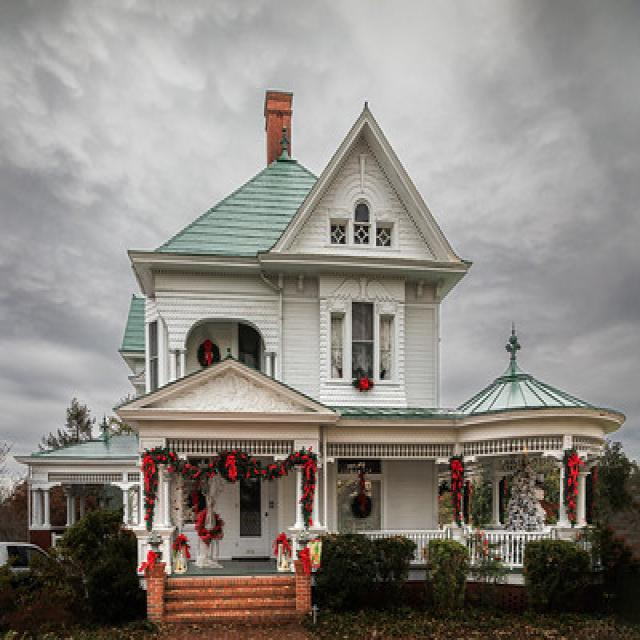building: (18, 85, 630, 625)
